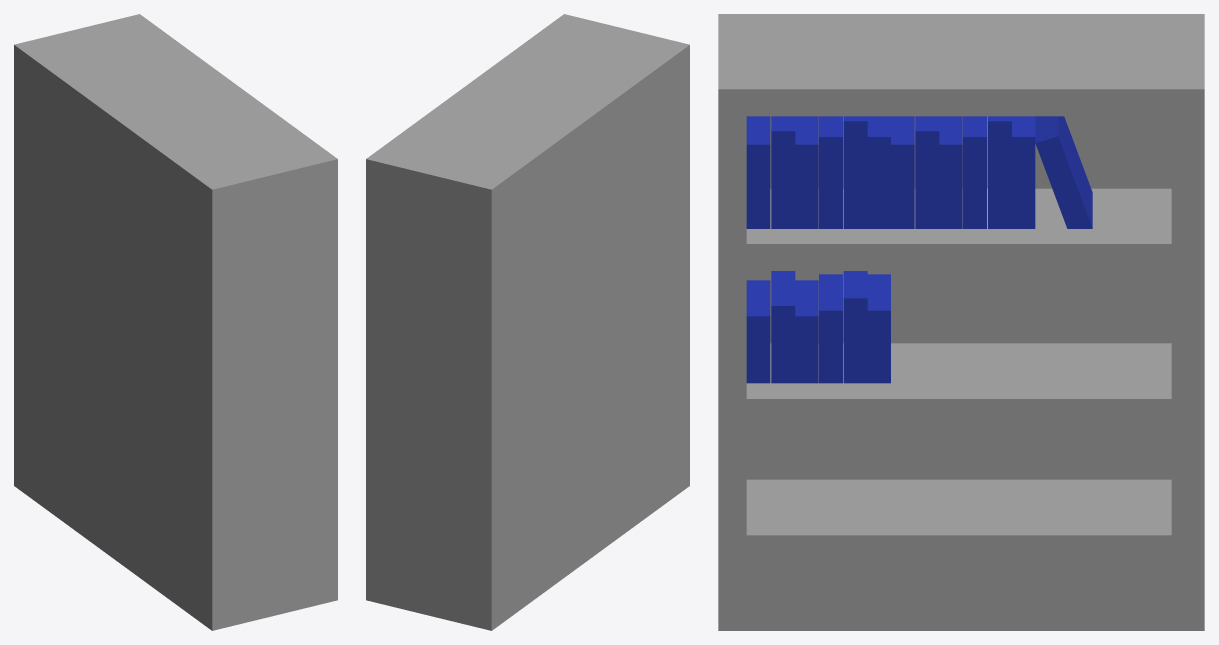
The model's file is reol_FBX.fbx.
3 views of the same model, side by side, from view 1: azimuth 30°, elevation 25°; view 2: azimuth 150°, elevation 25°; view 3: azimuth 270°, elevation 25° (orthographic). The views are drawn at different scales.
Parts seen in each view (by area): view 1: pCube8; view 2: pCube8; view 3: pCube8, pCube27, pCube9, pCube16, pCube10, pCube25, pCube22, pCube20, pCube13, pCube11, pCube17, pCube12 (+8 smaller).
Part boxes in pixels (bbox=[...]): pCube8: bbox=[14, 14, 337, 630]; pCube8: bbox=[366, 14, 689, 630]; pCube8: bbox=[718, 14, 1204, 630]; pCube27: bbox=[1035, 116, 1092, 228]; pCube9: bbox=[746, 116, 770, 228]; pCube16: bbox=[915, 116, 939, 228]; pCube10: bbox=[771, 116, 795, 228]; pCube25: bbox=[843, 271, 867, 383]; pCube22: bbox=[771, 271, 795, 383]; pCube20: bbox=[1011, 116, 1035, 228]; pCube13: bbox=[843, 116, 867, 228]; pCube11: bbox=[794, 116, 818, 228]; pCube17: bbox=[938, 116, 962, 228]; pCube12: bbox=[867, 116, 890, 228].
Bounding box in the file's own units: 1.49 × 5 × 4.07.
